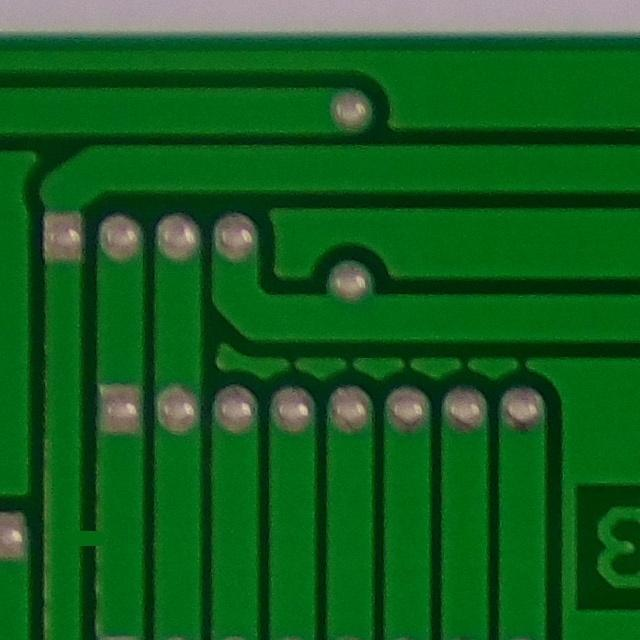short: (55, 497, 130, 584)
